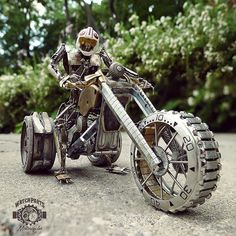helmet: (79, 26, 101, 57)
